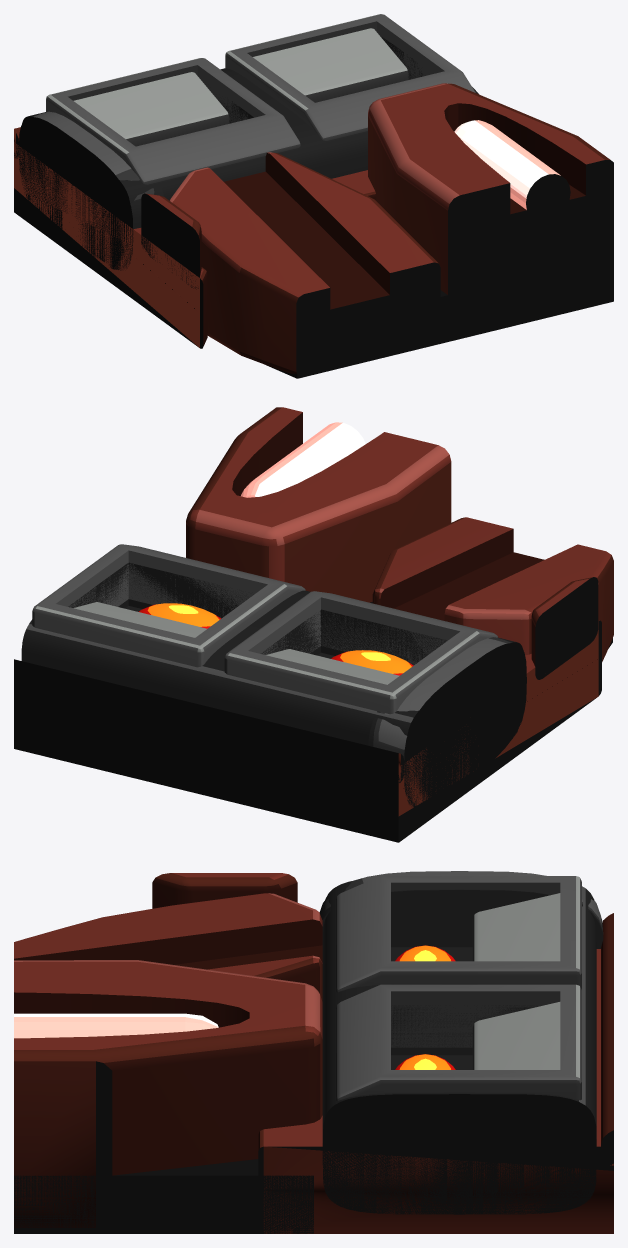
The model's file is savara_boss_279.glb.
The picture shows the model from 3 angles, top to bottom: view 1: azimuth 30°, elevation 25°; view 2: azimuth 150°, elevation 25°; view 3: azimuth 270°, elevation 25°; orthographic projection. The views are drawn at different scales.
Parts seen in each view (by area): view 1: savara_boss_279; view 2: savara_boss_279; view 3: savara_boss_279.
Boxes of the visible parts, bbox=[...] form: savara_boss_279: bbox=[14, 14, 613, 378]; savara_boss_279: bbox=[14, 407, 613, 842]; savara_boss_279: bbox=[14, 871, 613, 1233].
Bounding box in the file's own units: 24 × 9.2 × 28.
